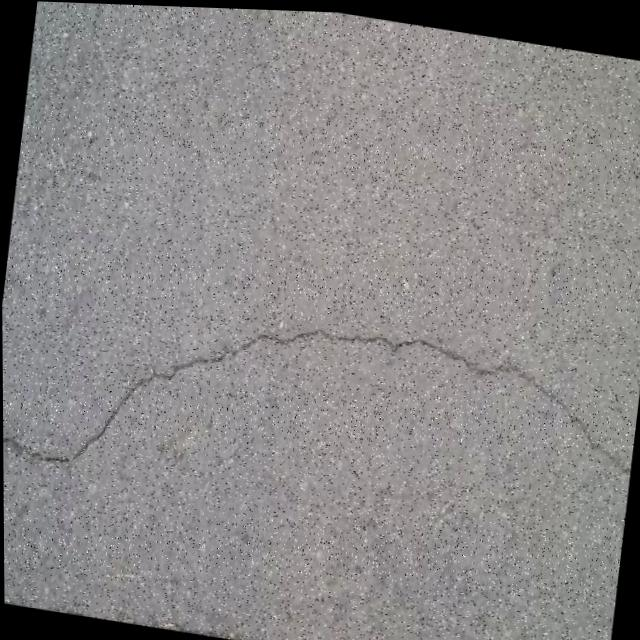Crack: (2, 263, 640, 567)
